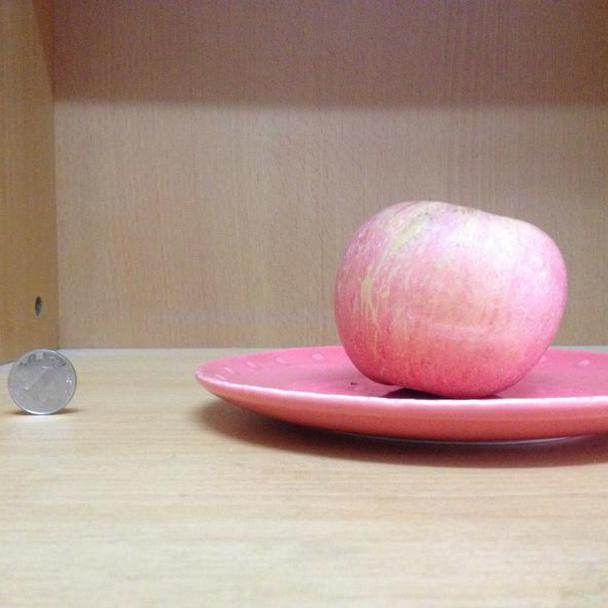apple: (331, 197, 568, 399)
